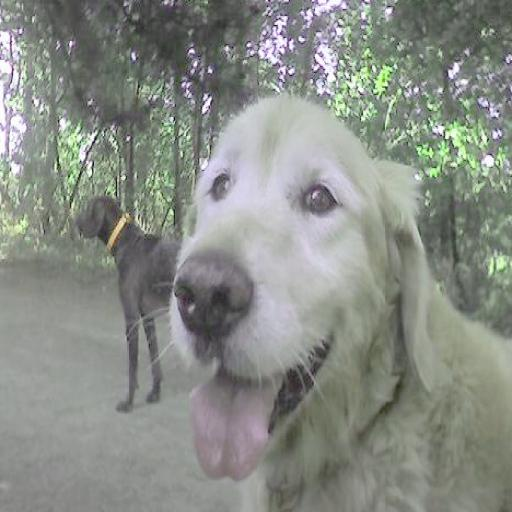dog_face: (174, 92, 428, 433)
